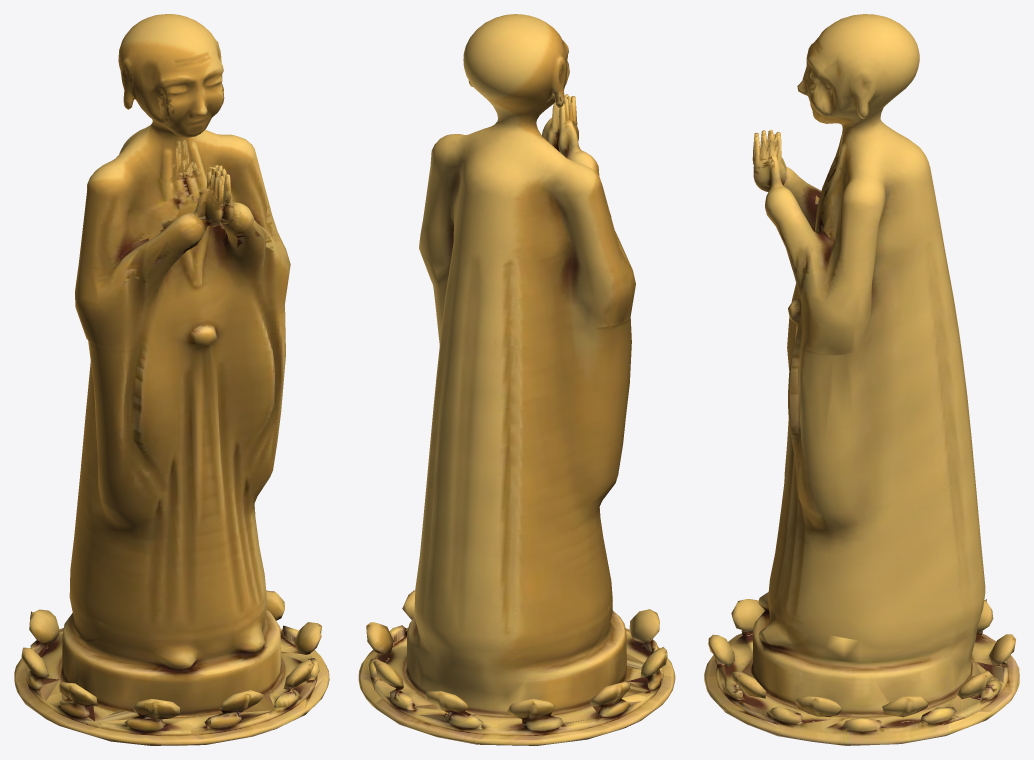
Rendered from cadiep.glb.
3 renders of one model, left to right at view 1: azimuth 30°, elevation 25°; view 2: azimuth 150°, elevation 25°; view 3: azimuth 270°, elevation 25°, orthographic.
Parts seen in each view (by area): view 1: cadiep; view 2: cadiep; view 3: cadiep.
Boxes of the visible parts, x1,y1,x2,y2 form: cadiep: (14, 14, 329, 745); cadiep: (358, 14, 675, 745); cadiep: (704, 14, 1019, 745).
Size of the model in its own units: 0.8708 by 2.02 by 0.872.
1 material, 1 textured.
